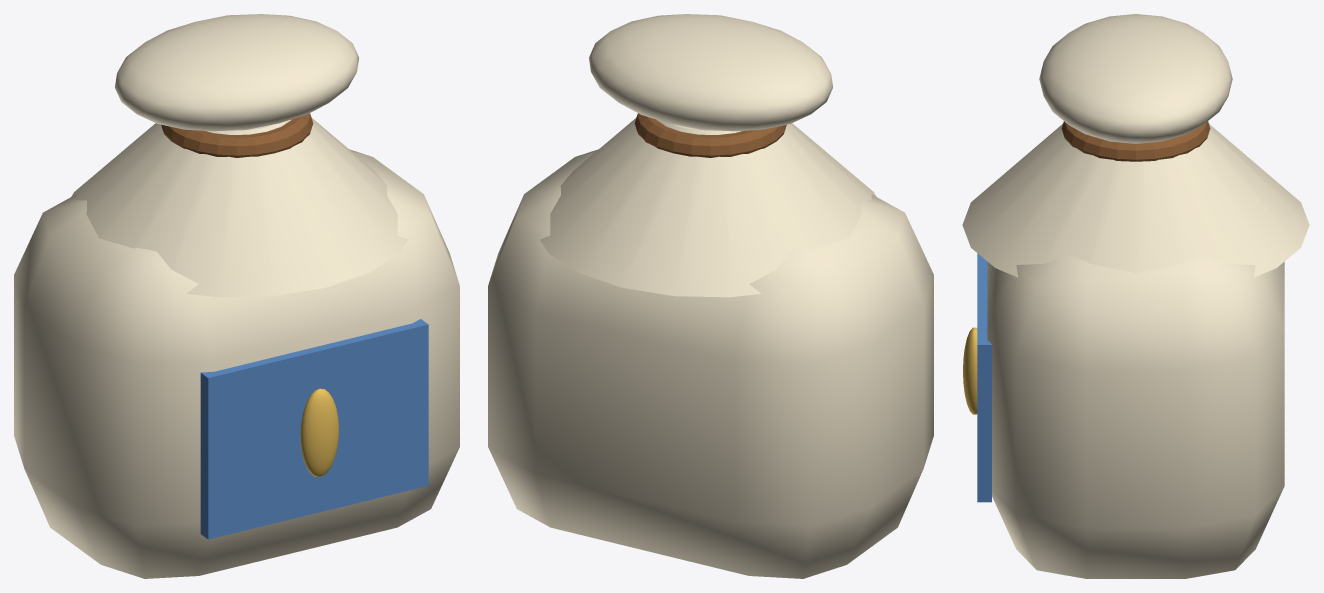
The model's file is Bakery_L2.fbx.
The picture shows the model from 3 angles, left to right: view 1: azimuth 30°, elevation 25°; view 2: azimuth 150°, elevation 25°; view 3: azimuth 270°, elevation 25°; orthographic projection. The views are drawn at different scales.
Visible parts, largest first — view 1: B2_Sack, B2_Gather, B2_Label, B2_Tuft, B2_Tie, B2_LabelWheat; view 2: B2_Sack, B2_Gather, B2_Tuft, B2_Tie; view 3: B2_Sack, B2_Gather, B2_Tuft, B2_Label, B2_Tie, B2_LabelWheat.
Boxes of the visible parts, box(x1,y1,x2,y2) form: B2_Sack: box(14, 149, 459, 578); B2_Gather: box(71, 117, 407, 297); B2_Label: box(200, 319, 428, 539); B2_Tuft: box(115, 14, 358, 131); B2_Tie: box(161, 113, 313, 157); B2_LabelWheat: box(300, 388, 338, 477); B2_Sack: box(488, 149, 933, 578); B2_Gather: box(540, 117, 876, 297); B2_Tuft: box(589, 14, 832, 131); B2_Tie: box(634, 113, 786, 157); B2_Sack: box(987, 255, 1284, 578); B2_Gather: box(962, 124, 1309, 277); B2_Tuft: box(1039, 14, 1232, 143); B2_Label: box(977, 253, 991, 502); B2_Tie: box(1061, 121, 1210, 161); B2_LabelWheat: box(963, 327, 977, 414).
Bounding box in the file's own units: 17 × 21.65 × 14.
